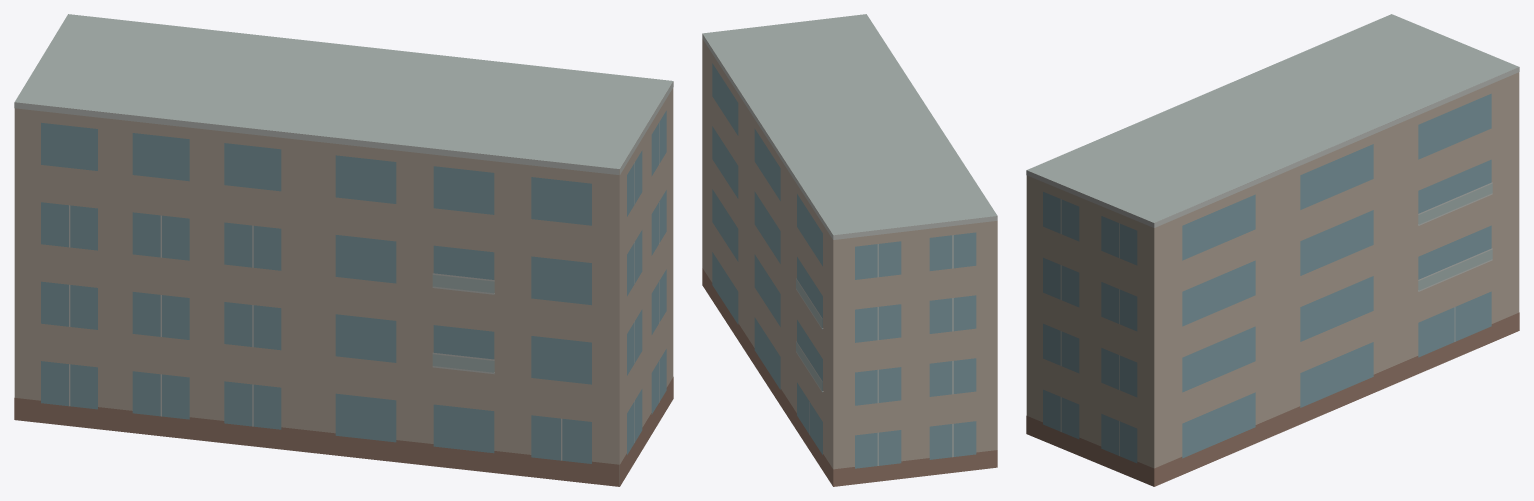
Rendered from survey-upis-32622078.glb.
3 renders of one model, left to right at view 1: azimuth 30°, elevation 25°; view 2: azimuth 150°, elevation 25°; view 3: azimuth 270°, elevation 25°, orthographic. The views are drawn at different scales.
Visible parts, largest first — view 1: survey-upis-32622078.tmp; view 2: survey-upis-32622078.tmp; view 3: survey-upis-32622078.tmp.
Boxes of the visible parts, <box> form: survey-upis-32622078.tmp: <box>14,14,673,486</box>; survey-upis-32622078.tmp: <box>702,14,997,486</box>; survey-upis-32622078.tmp: <box>1026,14,1519,486</box>.
Size of the model in its own units: 21.76 by 12.8 by 21.69.
